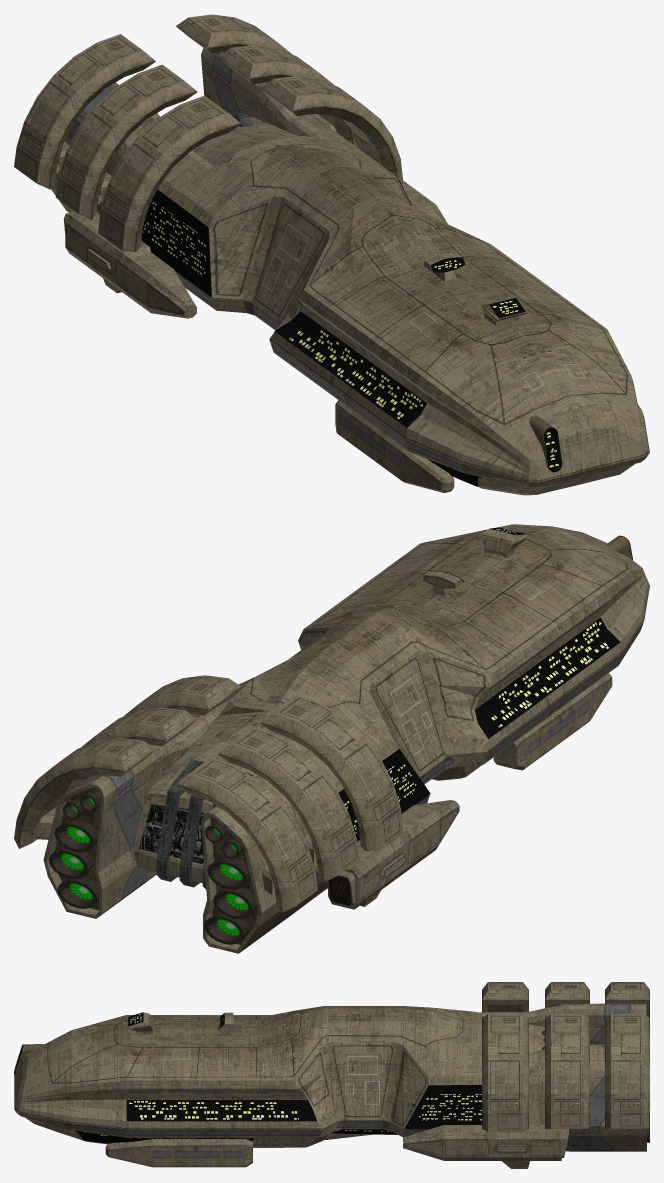
Rendered from Mandalorian_Cruiser2.obj.
3 renders of one model, top to bottom at view 1: azimuth 30°, elevation 25°; view 2: azimuth 150°, elevation 25°; view 3: azimuth 270°, elevation 25°, orthographic. The views are drawn at different scales.
Visible parts, largest first — view 1: Hull, Lights; view 2: Hull, Lights; view 3: Hull, Lights.
Part boxes in pixels (bbox=[...]): Hull: bbox=[14, 14, 649, 495]; Lights: bbox=[141, 179, 562, 486]; Hull: bbox=[14, 524, 649, 953]; Lights: bbox=[61, 527, 632, 935]; Hull: bbox=[14, 982, 649, 1168]; Lights: bbox=[14, 1012, 481, 1143].
Size of the model in its own units: 103 by 61.14 by 265.
